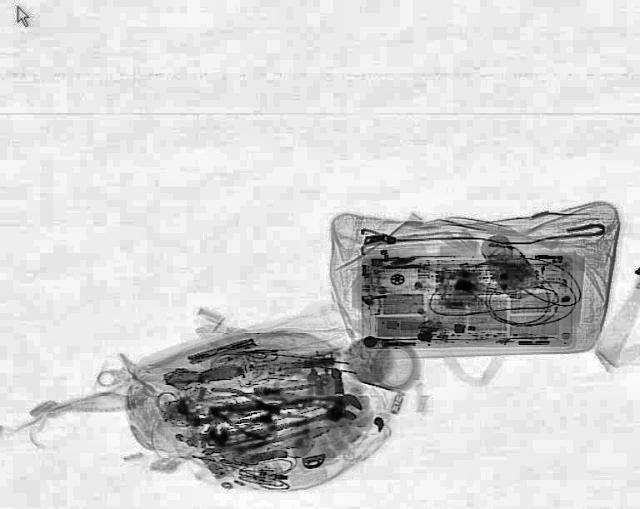Pliers: (208, 384, 302, 432)
Wrench: (249, 375, 367, 425)
